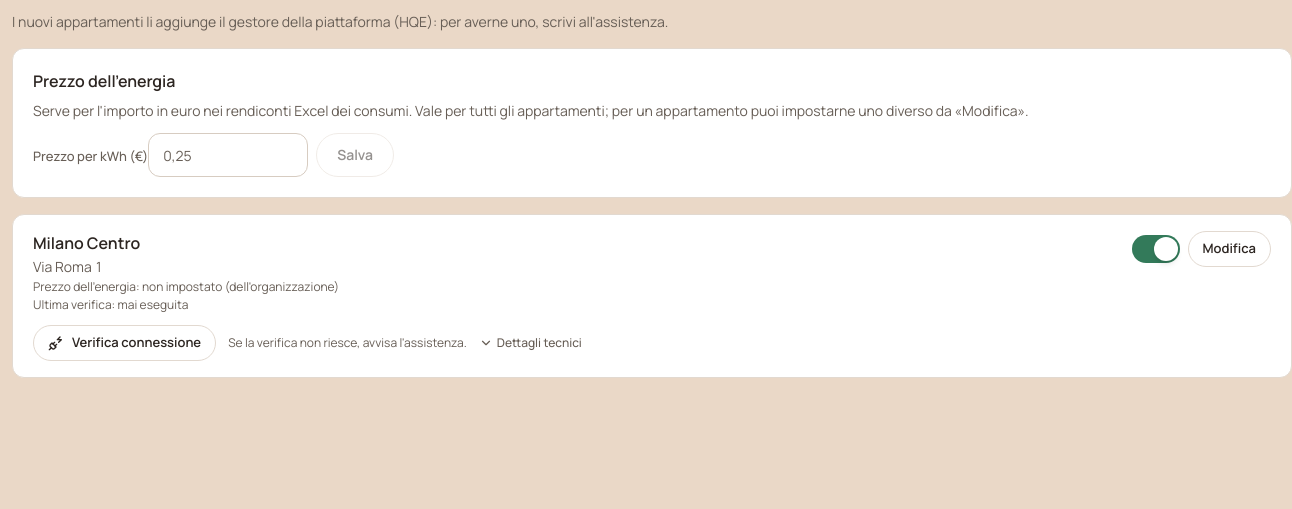
Test case: Amministrazione > Appartamenti, ambiente mock: li crea e li collega la piattaforma (D-77) › riga (design, lotto 2): collegamento, codice Italianway e funzioni solo dietro «Dettagli tecnici»
The width and height of the screenshot is (1292, 509).
Check: the element with test id "admin-apartment-apt-001" does not show "10.198.0.2", box [13, 215, 1291, 377]
Click the button with test id "admin-apartment-details-toggle-apt-001".
click(530, 343)  # box [479, 335, 582, 351]
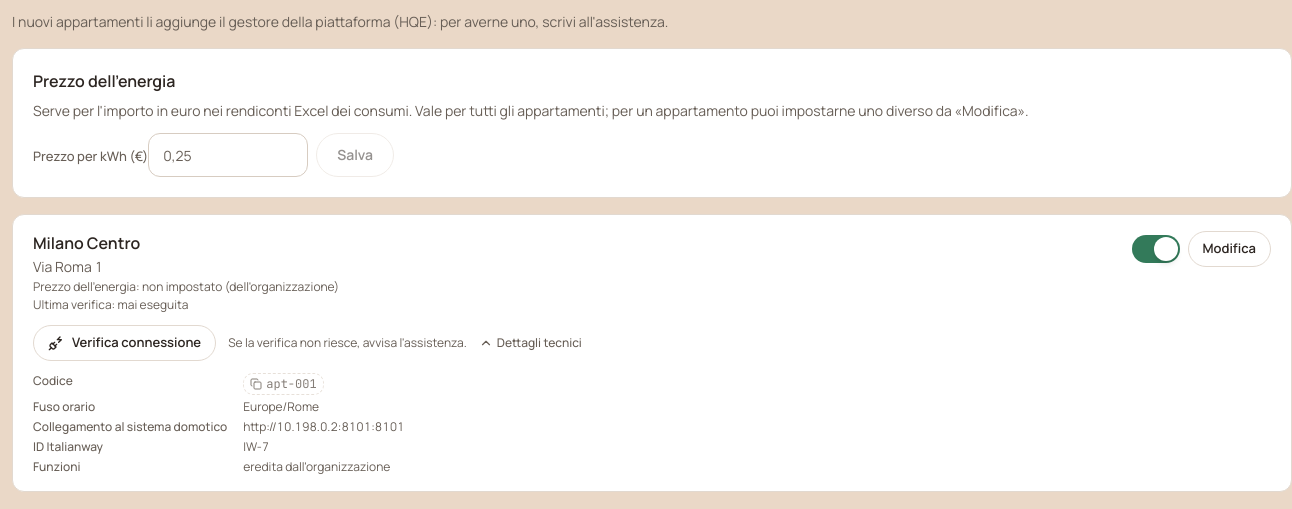
Check: the element with test id "admin-apartment-details-apt-001" shows "10.198.0.2", box [243, 418, 371, 435]
Check: the element with test id "admin-apartment-details-apt-001" shows "IW-7", box [243, 438, 269, 455]
Check: the element with test id "admin-apartment-details-apt-001" shows "Europe/Rome", box [243, 398, 319, 415]
